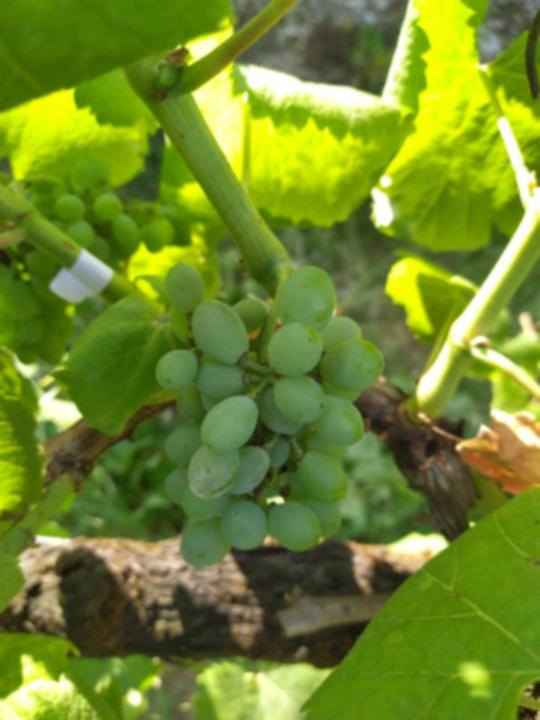grape: (154, 255, 388, 572)
